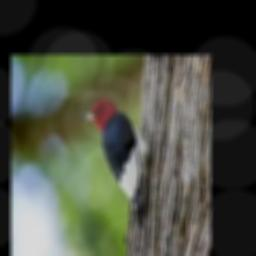Woodpecker: (80, 99, 158, 230)
